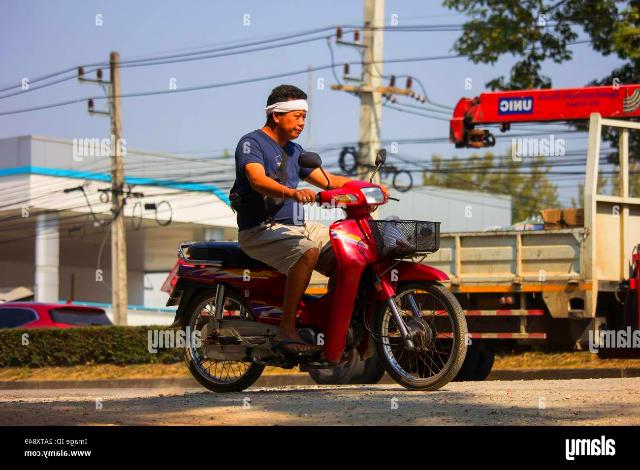motor: (167, 150, 469, 395)
non-helm: (267, 85, 309, 142)
